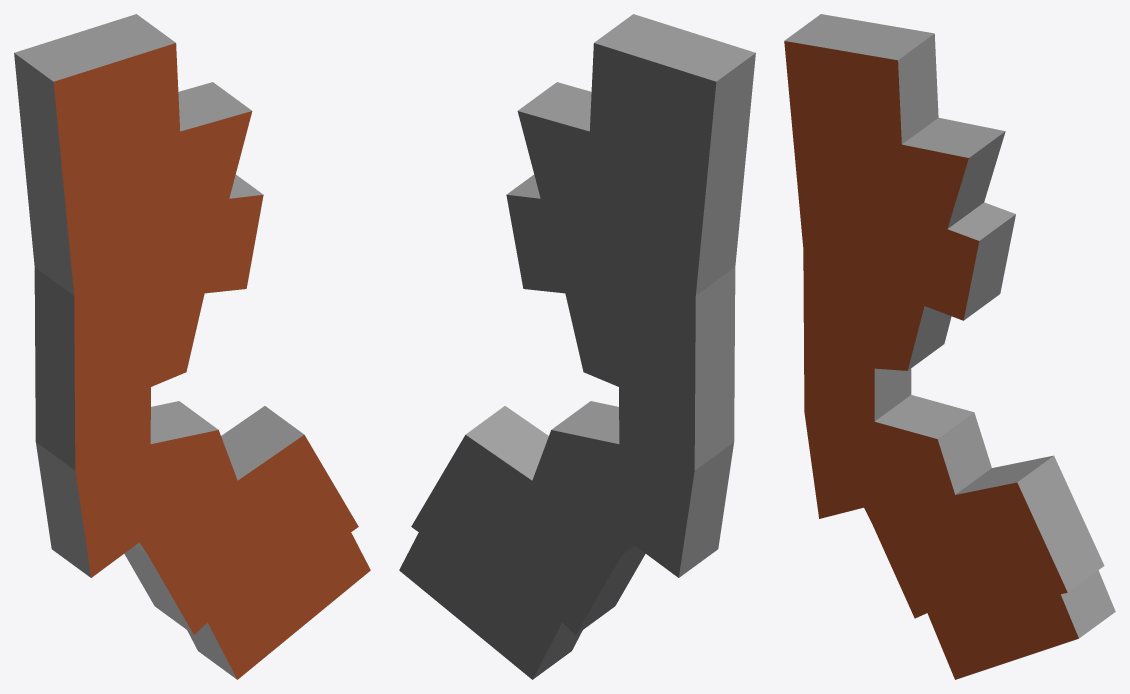
File: construction_5447_assumed_A_Casa_h6m.obj
3 views of the same model, side by side, from view 1: azimuth 30°, elevation 25°; view 2: azimuth 150°, elevation 25°; view 3: azimuth 330°, elevation 25° (orthographic). The views are drawn at different scales.
Visible parts, largest first — view 1: construction_5447_assumed_A_Casa; view 2: construction_5447_assumed_A_Casa; view 3: construction_5447_assumed_A_Casa.
Part boxes in pixels (x1,y1,x2,y2): construction_5447_assumed_A_Casa: [14, 14, 370, 679]; construction_5447_assumed_A_Casa: [399, 14, 755, 679]; construction_5447_assumed_A_Casa: [784, 14, 1115, 679].
Size of the model in its own units: 27.8 by 54.58 by 6.
